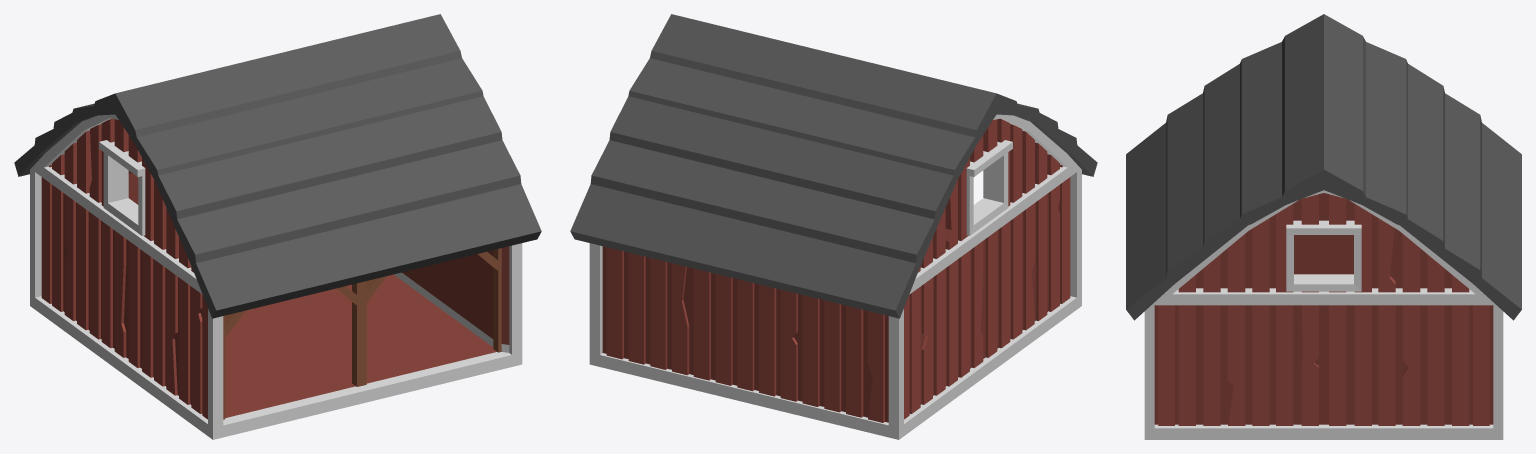
The model's file is OpenBarn.glb.
3 renders of one model, left to right at view 1: azimuth 30°, elevation 25°; view 2: azimuth 150°, elevation 25°; view 3: azimuth 270°, elevation 25°, orthographic. The views are drawn at different scales.
Parts seen in each view (by area): view 1: OpenBarn; view 2: OpenBarn; view 3: OpenBarn.
Boxes of the visible parts, x1,y1,x2,y2 form: OpenBarn: (14, 14, 541, 439); OpenBarn: (570, 14, 1097, 439); OpenBarn: (1126, 14, 1521, 439).
Bounding box in the file's own units: 5.74 × 4.74 × 6.18.
